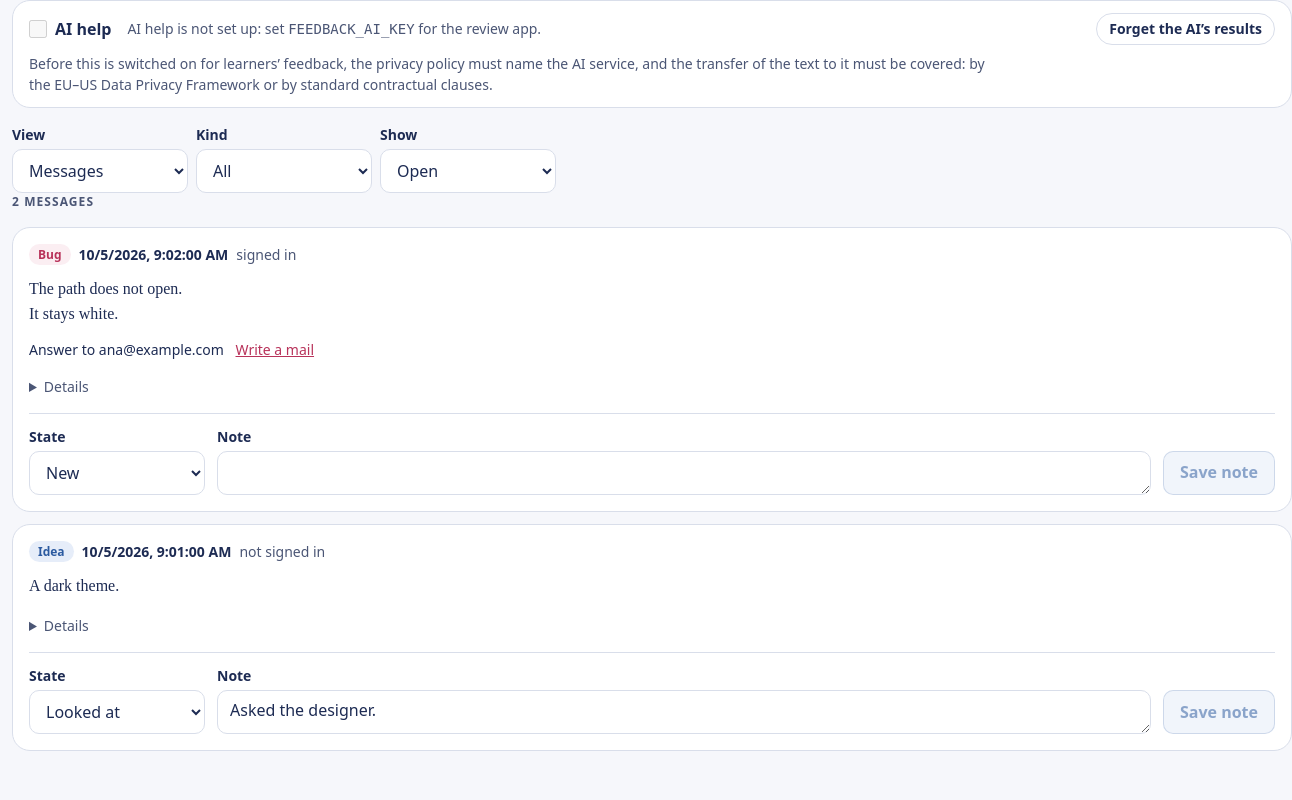
Test case: AdminFeedback › says so when the undo fails, and forgets the message that left when the list is read again
This screenshot has width=1292, height=800.
Select "Not doing" in the dropdown labelled "State" below "Answer to" at (117, 473), box [29, 451, 205, 495]
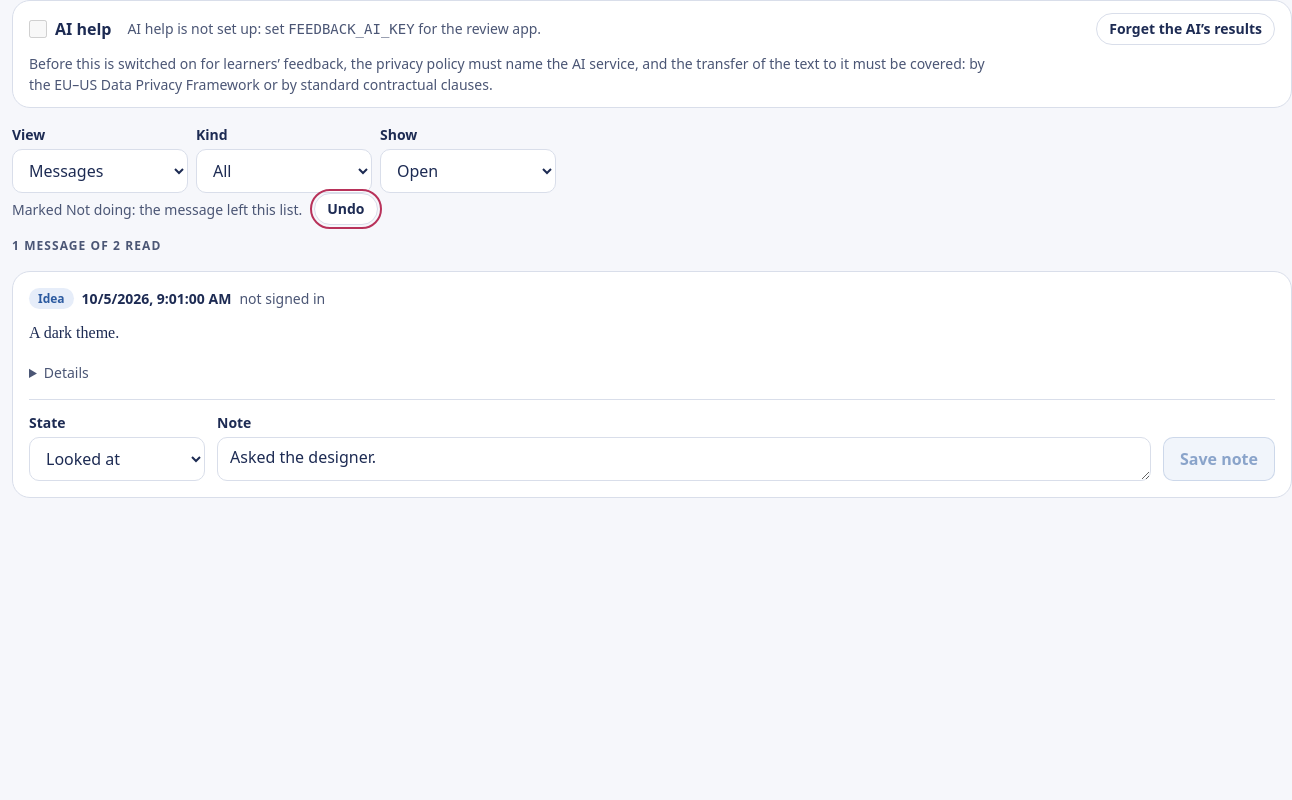
Check: the text "Marked Not doing: the message left this list." is shown, box [12, 198, 302, 220]
Click the button "Undo".
click(346, 209)  # box [314, 193, 378, 225]
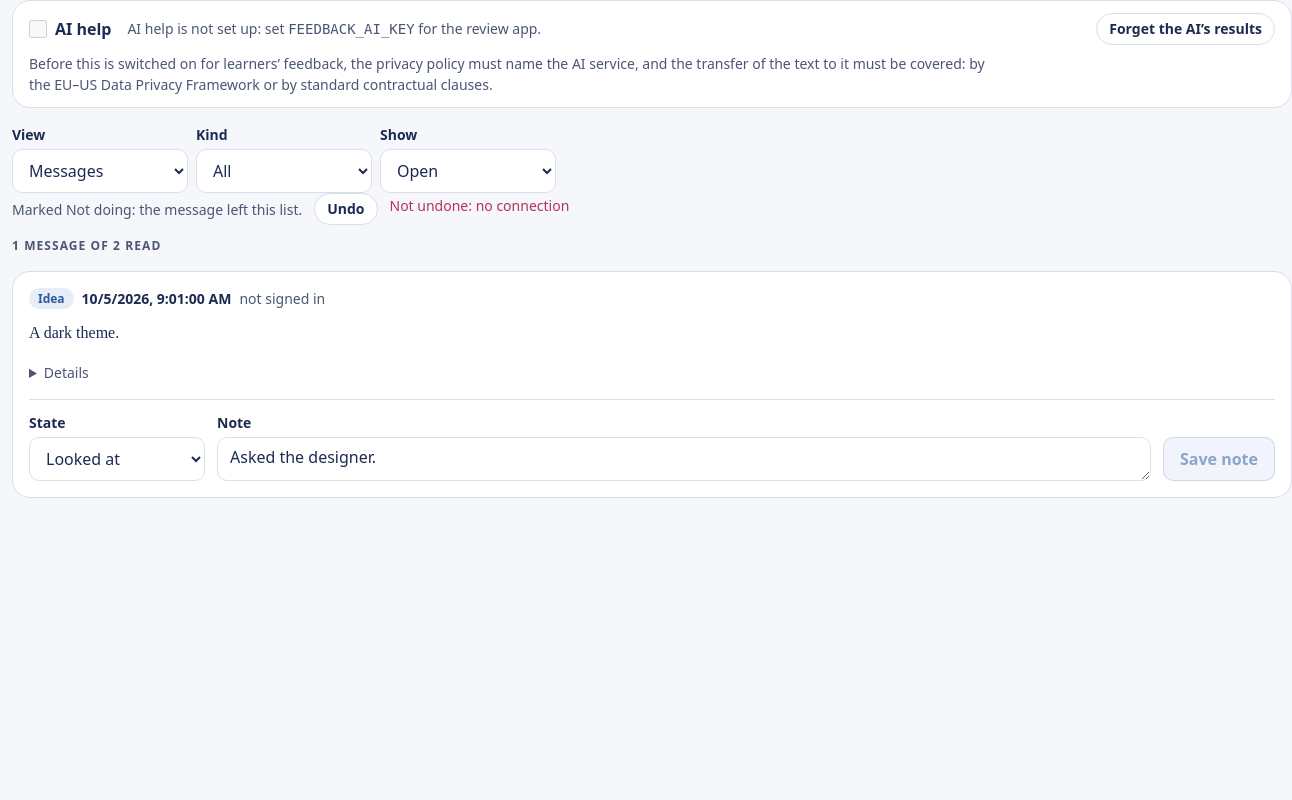
Check: the number of list items is 1, box [12, 271, 1291, 498]
Select "All" in the dropdown labelled "Show" at (468, 171), box [380, 149, 556, 193]
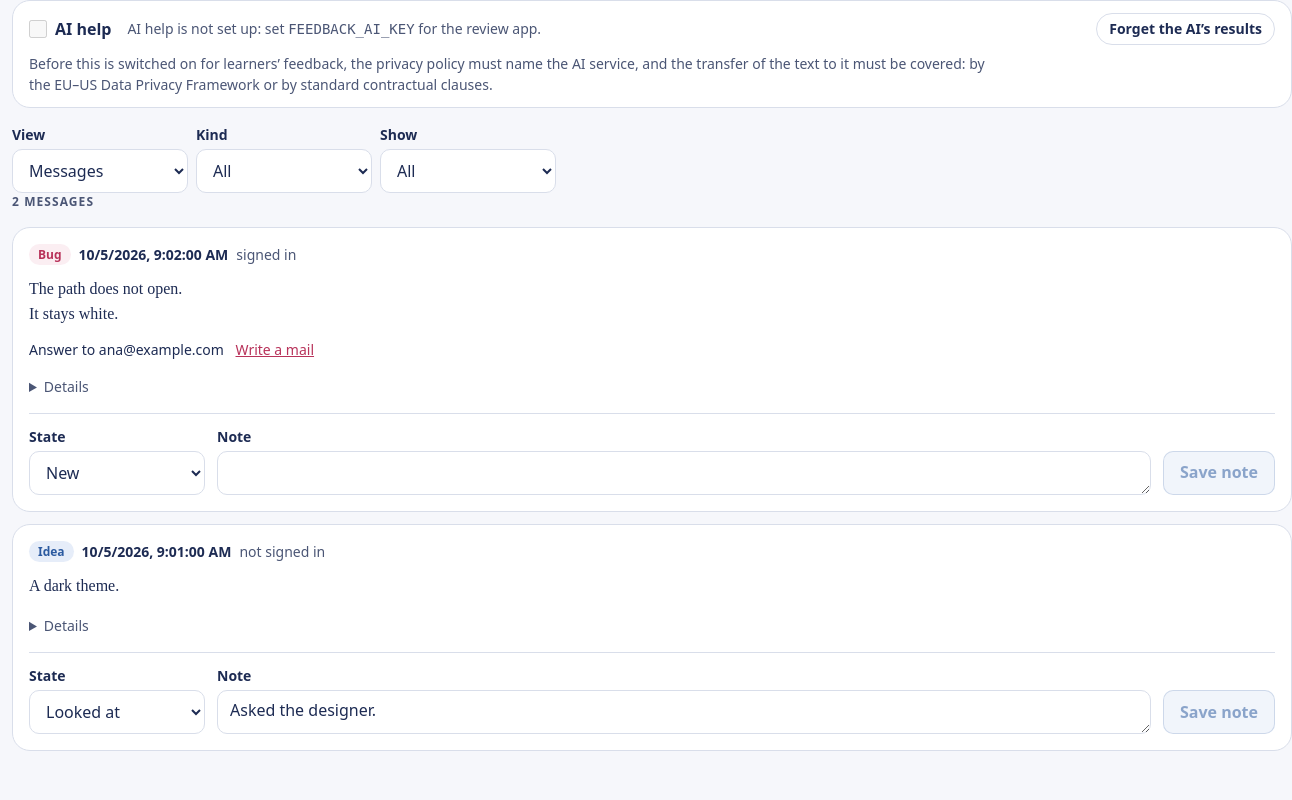
Check: the button "Undo" is gone
